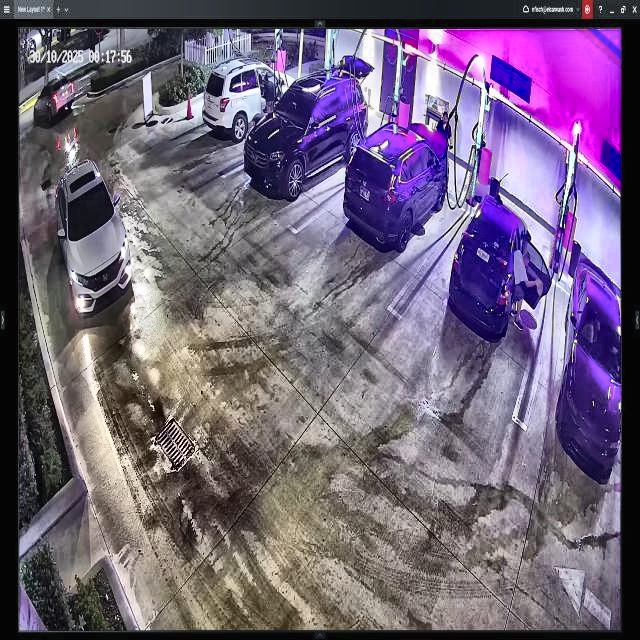Car: (245, 54, 372, 194), (446, 190, 552, 329), (347, 109, 445, 251)
